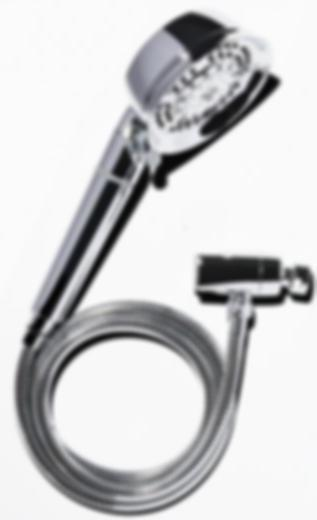Ducha: (10, 25, 297, 512)
